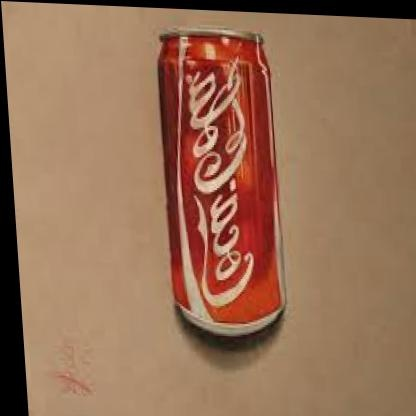trash: (158, 31, 284, 335)
